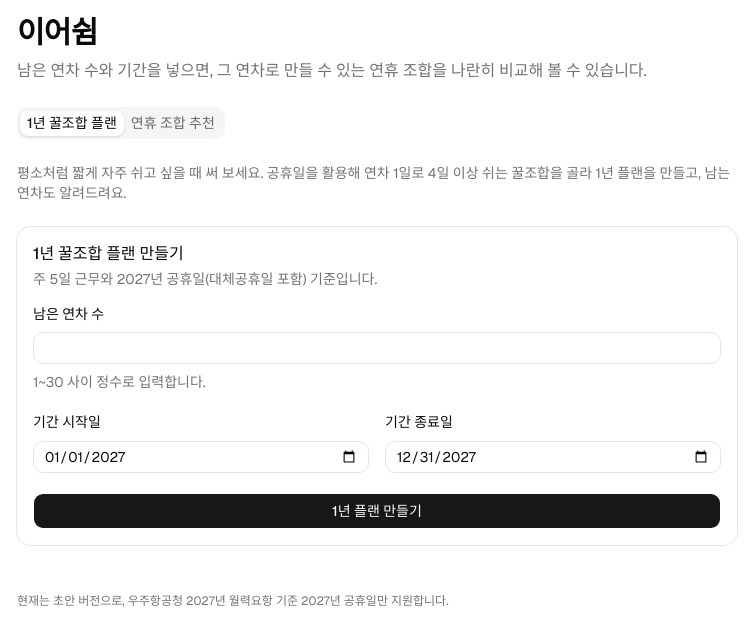
Scenario: 연휴 조합 추천 화면 › 연차 수 2.5를 넣으면 결과 없이 1~30 안내를 보여준다
Click the tab "연휴 조합 추천" at (173,123), box [124,110,222,136]
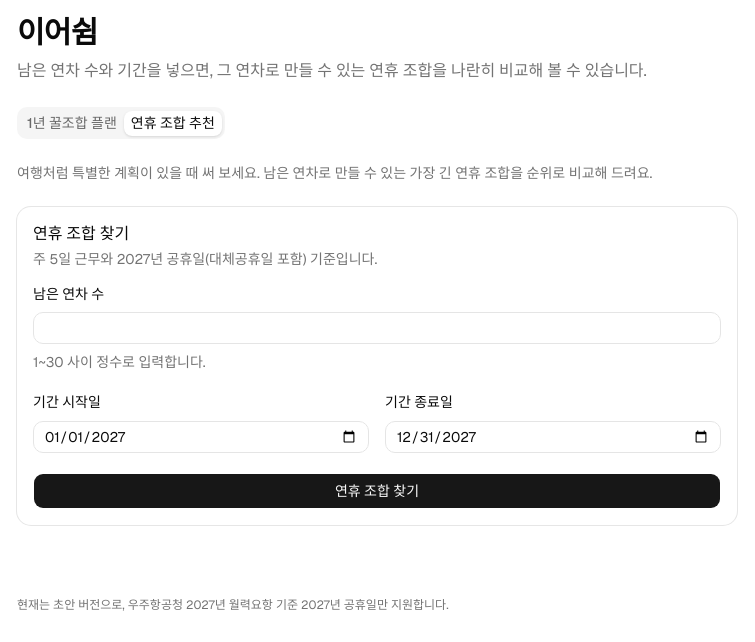
Type "2.5" into the field labelled "남은 연차 수" at (377,328), box [33,312,721,344]
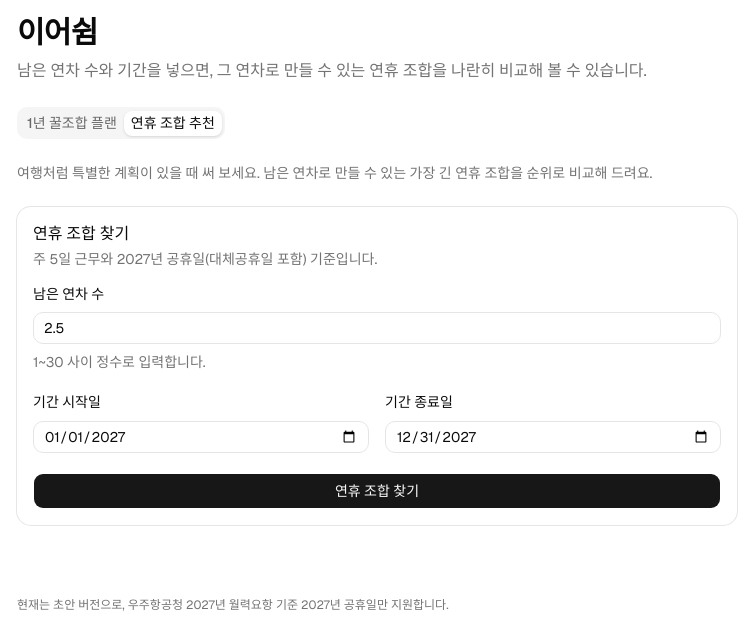
Click the button "연휴 조합 찾기" at (377,490), box [33,472,721,508]
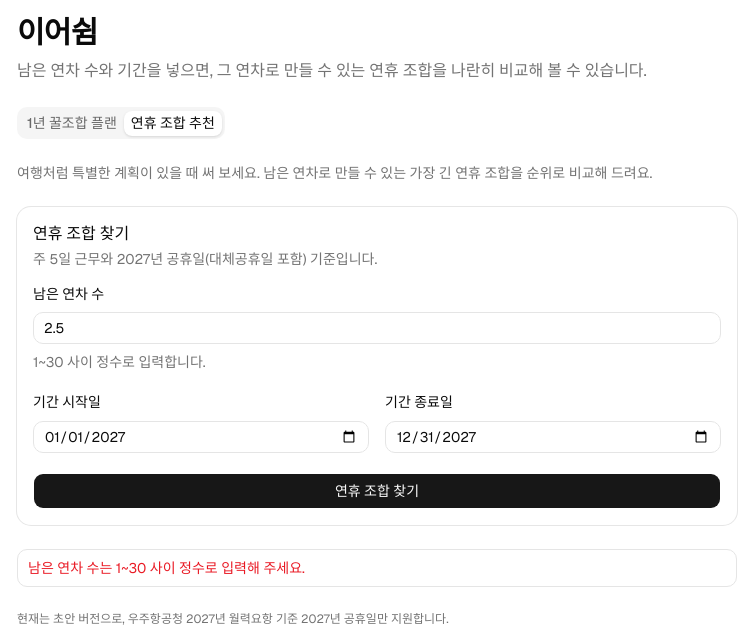
Expected: the message shows "1~30", [28,558,305,576]
